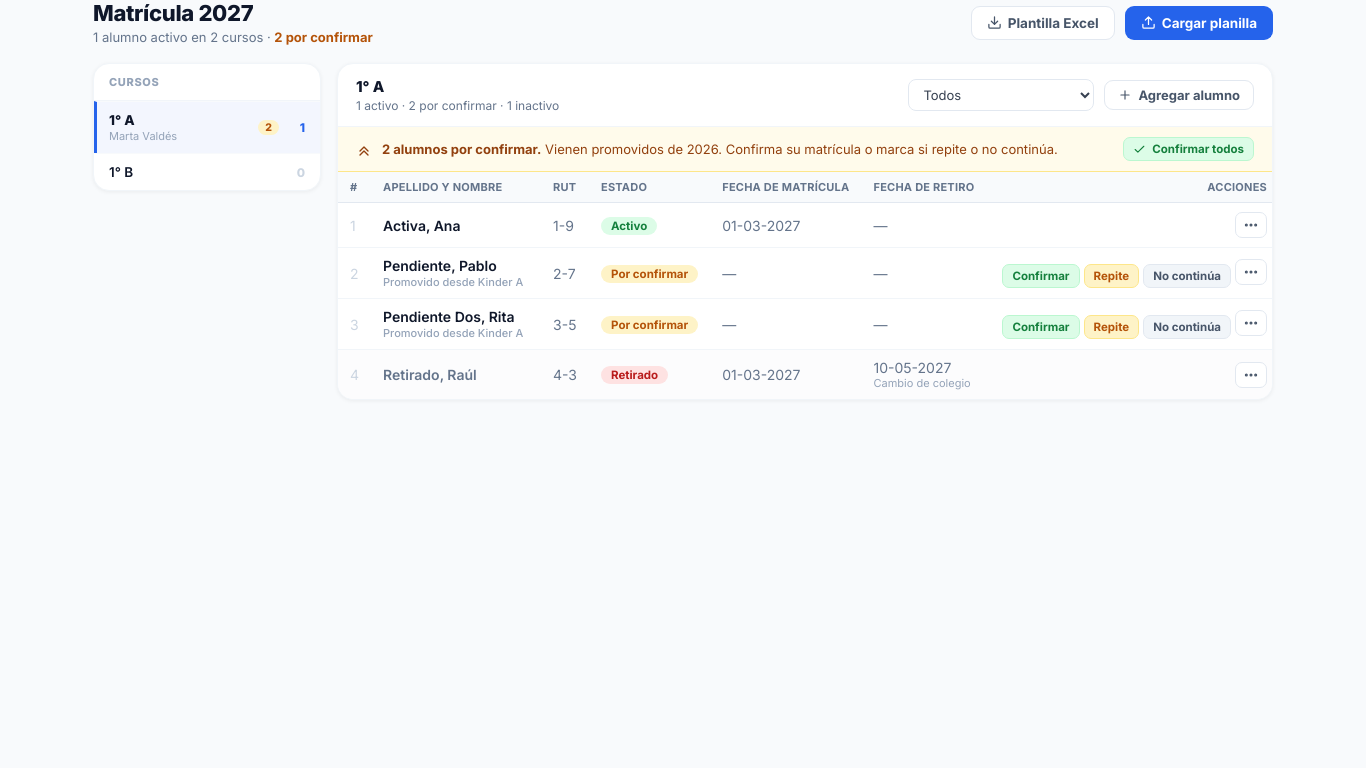
it: historial abre la línea de tiempo
Expected: the link "Activa, Ana" is shown, [383,216,460,234]
Click the button named "acciones para ana activa".
click(1251, 225)  # box [1235,212,1267,238]
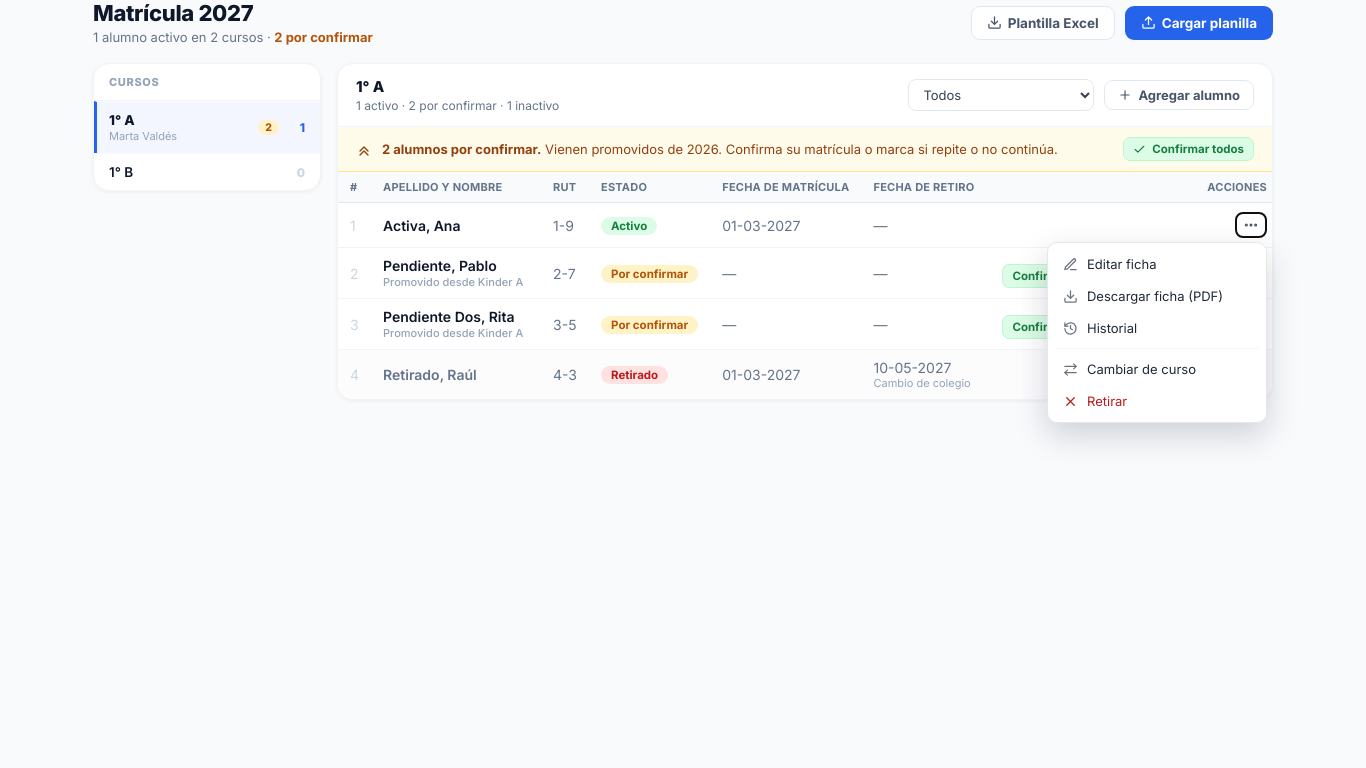
Click the menu item "Historial".
click(1157, 328)  # box [1053,312,1261,344]
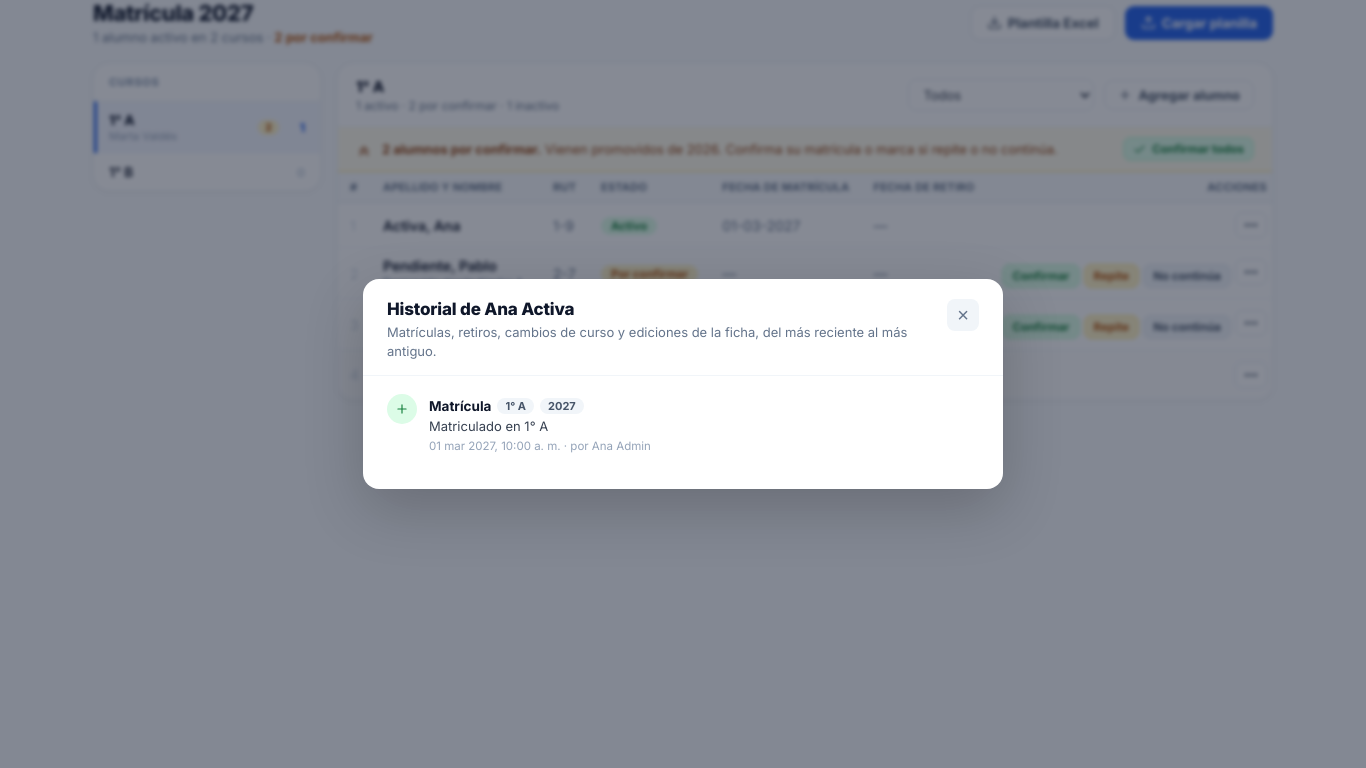
Expected: the text "Matriculado en 1° A" is shown, [429,418,548,434]
